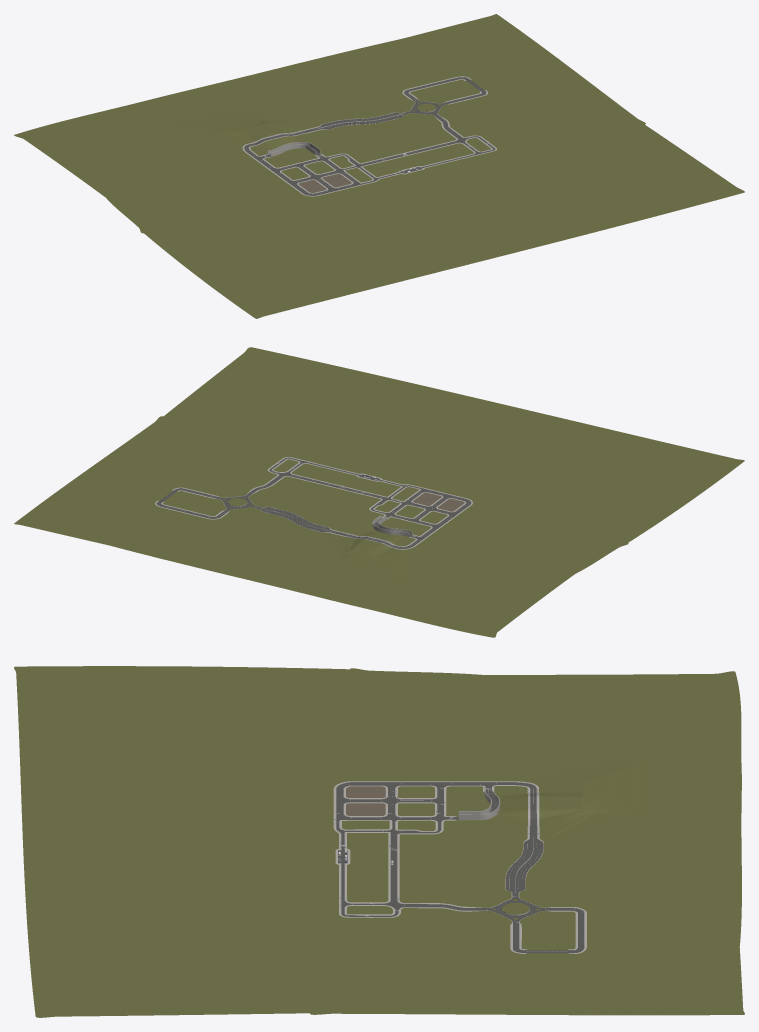
File: BFMC_Road.fbx
3 views of the same model, one above another, from view 1: azimuth 30°, elevation 25°; view 2: azimuth 150°, elevation 25°; view 3: azimuth 270°, elevation 25° (orthographic). The views are drawn at different scales.
Parts seen in each view (by area): view 1: Terrain_Ground_Layer0Node, Roads_Road_Layer0Node, Roads_Sidewalk_Layer0Node, Roads_Gutter_Layer0Node; view 2: Terrain_Ground_Layer0Node, Roads_Road_Layer0Node, Roads_Sidewalk_Layer0Node, Roads_Gutter_Layer0Node; view 3: Terrain_Ground_Layer0Node, Roads_Road_Layer0Node, Roads_Sidewalk_Layer0Node, Roads_Gutter_Layer0Node, Roads_Curb_Layer0Node.
Part boxes in pixels (box(x1,y1,x2,y2)): Terrain_Ground_Layer0Node: box(14, 14, 744, 318); Roads_Road_Layer0Node: box(244, 77, 495, 195); Roads_Sidewalk_Layer0Node: box(242, 76, 496, 196); Roads_Gutter_Layer0Node: box(244, 77, 495, 195); Terrain_Ground_Layer0Node: box(14, 347, 744, 637); Roads_Road_Layer0Node: box(156, 457, 471, 548); Roads_Sidewalk_Layer0Node: box(155, 457, 472, 549); Roads_Gutter_Layer0Node: box(156, 457, 471, 547); Terrain_Ground_Layer0Node: box(14, 666, 744, 1017); Roads_Road_Layer0Node: box(336, 782, 584, 953); Roads_Sidewalk_Layer0Node: box(333, 781, 586, 953); Roads_Gutter_Layer0Node: box(335, 782, 584, 953); Roads_Curb_Layer0Node: box(335, 782, 584, 953).
Size of the model in its own units: 900 by 791 by 18.98.
